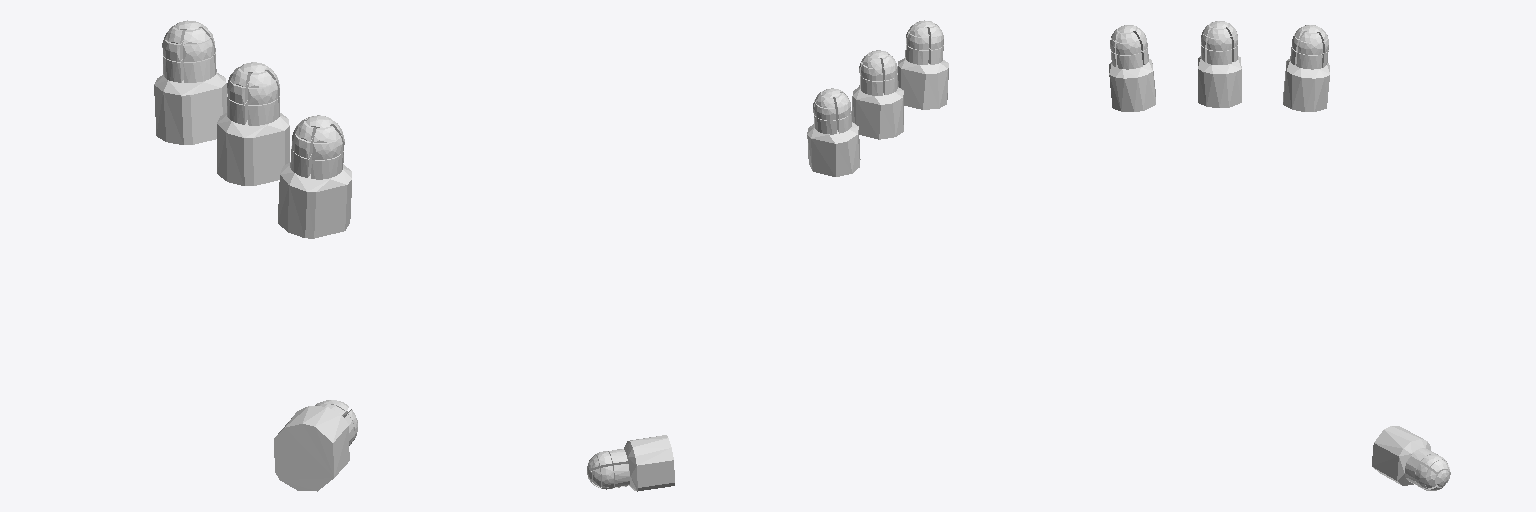
--- Facts derived from the render (not from the file) ---
The picture shows the robot from 3 angles, left to right: view 1: azimuth 30°, elevation 25°; view 2: azimuth 150°, elevation 25°; view 3: azimuth 270°, elevation 25°; orthographic projection.
Model meta_allegro with 79 links and 78 joints (19 revolute, 3 prismatic, 56 fixed), rooted at allegro_root0, posed joints at zero except 1 at the middle of their limits (joint_12.0 = 0.8295).
Visible links, largest first — view 1: link_15.0_digit2_sensor_base, link_11.0_digit2_sensor_base, link_7.0_digit2_sensor_base, link_3.0_digit2_sensor_base, link_3.0_digit2_sec4_sensor_1l2, link_7.0_digit2_sec4_sensor_1l2, link_11.0_digit2_sec4_sensor_1l2, link_3.0_digit2_sec4_sensor_2l2; view 2: link_15.0_digit2_sensor_base, link_3.0_digit2_sensor_base, link_7.0_digit2_sensor_base, link_11.0_digit2_sensor_base; view 3: link_15.0_digit2_sensor_base, link_3.0_digit2_sensor_base, link_11.0_digit2_sensor_base, link_7.0_digit2_sensor_base.
Boxes of the visible links, x1,y1,x2,y2 form: link_15.0_digit2_sensor_base: (274, 406, 349, 491); link_11.0_digit2_sensor_base: (278, 162, 351, 238); link_7.0_digit2_sensor_base: (217, 113, 289, 185); link_3.0_digit2_sensor_base: (154, 72, 226, 144); link_3.0_digit2_sec4_sensor_1l2: (183, 56, 214, 82); link_7.0_digit2_sec4_sensor_1l2: (248, 99, 278, 125); link_11.0_digit2_sec4_sensor_1l2: (311, 153, 342, 179); link_3.0_digit2_sec4_sensor_2l2: (183, 39, 213, 61); link_15.0_digit2_sensor_base: (624, 435, 674, 491); link_3.0_digit2_sensor_base: (807, 122, 860, 176); link_7.0_digit2_sensor_base: (852, 87, 903, 139); link_11.0_digit2_sensor_base: (898, 58, 948, 109); link_15.0_digit2_sensor_base: (1372, 426, 1430, 485); link_3.0_digit2_sensor_base: (1283, 59, 1329, 111); link_11.0_digit2_sensor_base: (1109, 59, 1155, 111); link_7.0_digit2_sensor_base: (1198, 56, 1241, 107).
Bounding box of the posed robot: 0.1465 × 0.2176 × 0.2763 m (x, y, z).
Meshes: 23 distinct files referenced, 56 mesh visuals loaded (14 binary STL); not drawn: 17 (reference not matched to a file when rendering).

robot.urdf — meta_allegro:
<?xml version="1.0" encoding="utf-8"?>
<robot name="meta_allegro" xmlns:xacro="http://ros.org/wiki/xacro">
  <!-- ============================================================================= -->
  <!-- FINGERS -->
  <!-- RIGHT HAND due to which finger is number 0 -->
  <!-- for LEFT HAND switch the sign of the **offset_origin_y** and **finger_angle_r** parameters-->
    <link name="allegro_root0">
      <inertial>
        <origin rpy="0 0 0" xyz="0 0 0"/>
        <mass value="4.00000"/>
        <inertia ixx="1e-4" ixy="0" ixz="0" iyy="1e-4" iyz="0" izz="1e-4"/>
      </inertial>
    </link>
    <link name="allegro_root1">
      <inertial>
        <mass value="1.05"/>
        <inertia ixx="1e-4" ixy="0.0" ixz="0.0" iyy="1e-4" iyz="0.0" izz="1e-4"/>
      </inertial>
    </link>
    <link name="allegro_root2">
      <inertial>
        <mass value="1.05"/>
        <inertia ixx="1e-4" ixy="0.0" ixz="0.0" iyy="1e-4" iyz="0.0" izz="1e-4"/>
      </inertial>
    </link>
    <link name="allegro_root3">
      <inertial>
        <mass value="1.05"/>
        <inertia ixx="1e-4" ixy="0.0" ixz="0.0" iyy="1e-4" iyz="0.0" izz="1e-4"/>
      </inertial>
    </link>
    <link name="allegro_root4">
      <inertial>
        <mass value="1.05"/>
        <inertia ixx="1e-4" ixy="0.0" ixz="0.0" iyy="1e-4" iyz="0.0" izz="1e-4"/>
      </inertial>
    </link>
    <link name="allegro_root5">
      <inertial>
        <mass value="1.05"/>
        <inertia ixx="1e-4" ixy="0.0" ixz="0.0" iyy="1e-4" iyz="0.0" izz="1e-4"/>
      </inertial>
    </link>

    <joint name="x_joint" type="prismatic">
      <parent link="allegro_root0"/>
      <child link="allegro_root1"/>
      <axis xyz="1 0 0"/>
      <limit lower="-0.2" upper="0.2"/>
    </joint>
    <joint name="y_joint" type="prismatic">
      <parent link="allegro_root1"/>
      <child link="allegro_root2"/>
      <axis xyz="0 1 0"/>
      <limit lower="-0.2" upper="0.2"/>
    </joint>
    <joint name="z_joint" type="prismatic">
      <parent link="allegro_root2"/>
      <child link="allegro_root3"/>
      <axis xyz="0 0 1"/>
      <limit lower="-0.2" upper="0.2"/>
    </joint>
    <joint name="x_rotation_joint" type="revolute">
      <parent link="allegro_root3"/>
      <child link="allegro_root4"/>
      <axis xyz="1 0 0"/>
        <origin rpy="-0.00000 -0.00000 0" xyz="0 0 0.03"/>
      <limit lower="-3.14" upper="3.14"/>
    </joint>
    <joint name="y_rotation_joint" type="revolute">
      <parent link="allegro_root4"/>
      <child link="allegro_root5"/>
      <axis xyz="0 1 0"/>
      <origin rpy="-0.00000 -0.00000 0" xyz="0 0 0.03"/>
      <limit lower="-3.14" upper="3.14"/>
    </joint>
    <joint name="z_rotation_joint" type="revolute">
      <parent link="allegro_root5"/>
      <child link="base_link"/>
      <axis xyz="0 0 1"/>
      <origin rpy="-0.00000 -0.00000 0" xyz="0 0 0.03"/>
      <limit lower="-3.14" upper="3.14"/>
    </joint>

    <link name="base_link">
    <inertial>
      <mass value="0.4154"/>
      <origin rpy="0 0 0" xyz="0 0 0"/>
      <inertia ixx="1e-4" ixy="0" ixz="0" iyy="1e-4" iyz="0" izz="1e-4"/>
    </inertial>
    <visual>
      <geometry>
        <mesh filename="meshes/base_link.STL"/>
      </geometry>
      <material name="Grey">
        <color rgba="0.2 0.2 0.2 1"/>
      </material>
      <origin rpy="0 0 0" xyz="0 0 0 "/>
    </visual>
    <!-- <collision>
      <origin rpy="0 0 0" xyz="-0.009300 0 -0.0475"/>
      <geometry>
        <box size="0.0408 0.1130 0.095"/>
      </geometry>
    </collision> -->
     <collision>
      <origin rpy="0 0 0" xyz="-0.009 0.0 -0.023"/>
      <geometry>
        <box size="0.0414 0.112 0.0448"/>
      </geometry>
    </collision>
    <collision>
      <origin rpy="0 0 0" xyz="-0.009 -0.0253 -0.0667"/>
      <geometry>
        <box size="0.0414 0.0538 0.0428"/>
      </geometry>
    </collision>
    <collision>
      <origin rpy="0 0 0" xyz="-0.009300 -0.00557 -0.08874"/>
      <geometry>
        <box size="0.0414 0.0720 0.013"/>
      </geometry>
    </collision>
    
  </link>


  <link name="link_0.0">
    <!-- <inertial>
      <mass value="0.005"/>
      <origin xyz="0 0 0"/>
      <inertia ixx="5.1458e-05" iyy="5.1458e-05" izz="6.125e-05" ixy="0" ixz="0" iyz="0"/>
    </inertial> -->
    <inertial>
      <mass value="0.0119"/>
      <origin rpy="0 0 0" xyz="0 0 0"/>
      <inertia ixx="1.01666658333e-06" ixy="0.0" ixz="0.0" iyy="6.47677333333e-07" iyz="0.0" izz="1.01666658333e-06"/>
    </inertial>

    <visual>
      <geometry>
        <mesh filename="meshes/link_0.0.STL"/>
      </geometry>
      <material name="black"/>
    </visual>
    <collision>
      <geometry>
        <box size="0.0196 0.0275 0.0164"/>
      </geometry>
      <origin rpy="0 0 0" xyz="0 0 0.0082"/>
    </collision>
  </link>
  <joint name="joint_0.0" type="revolute">
    <axis xyz="0 0 1"/>
    <limit effort="0" lower="-0.47" upper="0.47" velocity="10"/>
    <parent link="base_link"/>
    <child link="link_0.0"/>
    <origin rpy="-0.08726646255 0 0" xyz="0 0.0435 -0.001542"/>
  </joint>
  <link name="link_1.0">
    <!-- <inertial>
      <mass value="0.125164"/>
      <origin xyz="0.027 0 0"/>
      <inertia ixx="6.39979e-06" iyy="8.88687e-05" izz="9.13751e-05" ixy="-3.26531e-06" ixz="1.23963e-05"
               iyz="2.07384e-05"/>
    </inertial> -->
     <inertial>
      <mass value="0.065"/>
      <origin rpy="0 0 0" xyz="0 0 0"/>
      <inertia ixx="7.95654166667e-05" ixy="1.7199e-05" ixz="8.75875e-06" iyy="2.47088833333e-05" iyz="2.413125e-05" izz="7.95654166667e-05"/>
    </inertial>
    
    <visual>
      <geometry>
        <mesh filename="meshes/link_1.0.STL"/>
      </geometry>
      <material name="black"/>
    </visual>
    <collision>
      <geometry>
        <box size="0.0196 0.0275 0.054"/>
      </geometry>
      <origin rpy="0 0 0" xyz="0 0 0.027"/>
    </collision>
  </link>
  <joint name="joint_1.0" type="revolute">
    <limit effort="0" lower="-0.196" upper="1.61" velocity="10"/>
    <axis xyz="0 1 0"/>
    <parent link="link_0.0"/>
    <child link="link_1.0"/>
    <origin xyz="0 0 0.0164"/>
  </joint>
  <link name="link_2.0">
    <!-- <inertial>
      <mass value="0.131691"/>
      <origin xyz="0.039 0 0"/>
      <inertia ixx="7.04217e-05" iyy="3.95744e-05" izz="6.61125e-05" ixy="-9.64342e-05" ixz="5.8796e-05"
               iyz="-3.62996e-05"/>
    </inertial> -->
    <inertial>
      <mass value="0.0355"/>
      <origin rpy="0 0 0" xyz="0 0 0"/>
      <inertia ixx="2.63979183333e-05" ixy="6.67968e-06" ixz="4.783625e-06" iyy="1.34948516667e-05" iyz="9.372e-06" izz="2.63979183333e-05"/>
    </inertial>

    <visual>
      <geometry>
        <mesh filename="meshes/link_2.0.STL"/>
      </geometry>
         <material name="Grey">
        <color rgba="0.2 0.2 0.2 1"/>
      </material>
    </visual>
    <collision>
      <geometry>
        <box size="0.0196 0.0275 0.0384"/>
      </geometry>
      <origin rpy="0 0 0" xyz="0 0 0.0192"/>
    </collision>
  </link>
  <joint name="joint_2.0" type="revolute">
    <axis xyz="0 1 0"/>
    <limit effort="0" lower="-0.174" upper="1.709" velocity="10"/>
    <parent link="link_1.0"/>
    <child link="link_2.0"/>
    <origin xyz="0 0 0.054"/>
  </joint>
  <link name="link_3.0">
    <!-- <inertial>
      <mass value="0.131691"/>
      <origin xyz="0.039 0 0"/>
      <inertia ixx="7.04217e-05" iyy="3.95744e-05" izz="6.61125e-05" ixy="-9.64342e-05" ixz="5.8796e-05"
               iyz="-3.62996e-05"/>
    </inertial> -->
     <inertial>
      <mass value="0.0096"/>
      <origin rpy="0 0 0" xyz="0 0 0"/>
      <inertia ixx="4.701248e-06" ixy="1.255968e-06" ixz="1.2936e-06" iyy="3.649312e-06" iyz="1.7622e-06" izz="4.701248e-06"/>
    </inertial>

    <visual>
      <geometry>
        <mesh filename="meshes/link_3.0.STL"/>
      </geometry>
         <material name="Grey">
        <color rgba="0.2 0.2 0.2 1"/>
      </material>
    </visual>
    <collision>
      <geometry>
        <box size="0.0196 0.0235 0.014"/>
      </geometry>
      <origin rpy="0 0 0" xyz="0 0 0.008"/>
    </collision>
  </link>
  <joint name="joint_3.0" type="revolute">
    <axis xyz="0 1 0"/>
    <limit effort="0" lower="-0.227" upper="1.618" velocity="10"/>
    <parent link="link_2.0"/>
    <child link="link_3.0"/>
    <origin xyz="0 0 0.0384"/>
  </joint>

  <link name="link_4.0">
    <!-- <inertial>
      <mass value="0.005"/>
      <origin xyz="0 0 0"/>
      <inertia ixx="5.1458e-05" iyy="5.1458e-05" izz="6.125e-05" ixy="0" ixz="0" iyz="0"/>
    </inertial> -->

    <inertial>
      <mass value="0.0119"/>
      <origin rpy="0 0 0" xyz="0 0 0"/>
      <inertia ixx="1.01666658333e-06" ixy="0.0" ixz="0.0" iyy="6.47677333333e-07" iyz="0.0" izz="1.01666658333e-06"/>
    </inertial>

    <visual>
      <geometry>
        <mesh filename="meshes/link_0.0.STL"/>
      </geometry>
      <material name="black"/>
    </visual>
    <collision>
      <geometry>
        <box size="0.0196 0.0275 0.0164"/>
      </geometry>
      <origin rpy="0 0 0" xyz="0 0 0.0082"/>
    </collision>
  </link>
  <joint name="joint_4.0" type="revolute">
    <axis xyz="0 0 1"/>
    <limit effort="0" lower="-0.47" upper="0.47" velocity="10"/>
    <parent link="base_link"/>
    <child link="link_4.0"/>
    <origin rpy="0.0 0 0" xyz="0 0 0.0007"/>
  </joint>
  <link name="link_5.0">
    <!-- <inertial>
      <mass value="0.125164"/>
      <origin xyz="0.027 0 0"/>
      <inertia ixx="6.39979e-06" iyy="8.88687e-05" izz="9.13751e-05" ixy="-3.26531e-06" ixz="1.23963e-05"
               iyz="2.07384e-05"/>
    </inertial> -->
    
    <inertial>
      <mass value="0.065"/>
      <origin rpy="0 0 0" xyz="0 0 0"/>
      <inertia ixx="7.95654166667e-05" ixy="1.7199e-05" ixz="8.75875e-06" iyy="2.47088833333e-05" iyz="2.413125e-05" izz="7.95654166667e-05"/>
    </inertial>

    <visual>
      <geometry>
        <mesh filename="meshes/link_1.0.STL"/>
      </geometry>
      <material name="black"/>
    </visual>
    <collision>
      <geometry>
        <box size="0.0196 0.0275 0.054"/>
      </geometry>
      <origin rpy="0 0 0" xyz="0 0 0.027"/>
    </collision>
  </link>
  <joint name="joint_5.0" type="revolute">
    <limit effort="0" lower="-0.196" upper="1.61" velocity="10"/>
    <axis xyz="0 1 0"/>
    <parent link="link_4.0"/>
    <child link="link_5.0"/>
    <origin xyz="0 0 0.0164"/>
  </joint>
  <link name="link_6.0">
    <!-- <inertial>
      <mass value="0.131691"/>
      <origin xyz="0.039 0 0"/>
      <inertia ixx="7.04217e-05" iyy="3.95744e-05" izz="6.61125e-05" ixy="-9.64342e-05" ixz="5.8796e-05"
               iyz="-3.62996e-05"/>
    </inertial> -->
    <inertial>
      <mass value="0.0355"/>
      <origin rpy="0 0 0" xyz="0 0 0"/>
      <inertia ixx="2.63979183333e-05" ixy="6.67968e-06" ixz="4.783625e-06" iyy="1.34948516667e-05" iyz="9.372e-06" izz="2.63979183333e-05"/>
    </inertial>

    <visual>
      <geometry>
        <mesh filename="meshes/link_2.0.STL"/>
      </geometry>
      <material name="black"/>
    </visual>
    <collision>
      <geometry>
        <box size="0.0196 0.0275 0.0384"/>
      </geometry>
      <origin rpy="0 0 0" xyz="0 0 0.0192"/>
    </collision>
  </link>
  <joint name="joint_6.0" type="revolute">
    <axis xyz="0 1 0"/>
    <limit effort="0" lower="-0.174" upper="1.709" velocity="10"/>
    <parent link="link_5.0"/>
    <child link="link_6.0"/>
    <origin xyz="0 0 0.054"/>
  </joint>
  <link name="link_7.0">
    <!-- <inertial>
      <mass value="0.131691"/>
      <origin xyz="0.039 0 0"/>
      <inertia ixx="7.04217e-05" iyy="3.95744e-05" izz="6.61125e-05" ixy="-9.64342e-05" ixz="5.8796e-05"
               iyz="-3.62996e-05"/>
    </inertial> -->
    <inertial>
      <mass value="0.0096"/>
      <origin rpy="0 0 0" xyz="0 0 0"/>
      <inertia ixx="4.701248e-06" ixy="1.255968e-06" ixz="1.2936e-06" iyy="3.649312e-06" iyz="1.7622e-06" izz="4.701248e-06"/>
    </inertial>

    <visual>
      <geometry>
        <mesh filename="meshes/link_3.0.STL"/>
      </geometry>
      <material name="black"/>
    </visual>
     <collision>
      <geometry>
        <box size="0.0196 0.0235 0.014"/>
      </geometry>
      <origin rpy="0 0 0" xyz="0 0 0.008"/>
    </collision>

    <!-- <collision>
      <geometry>
        <box size="0.0196 0.0275 0.0267"/>
      </geometry>
      <origin rpy="0 0 0" xyz="0 0 0.01335"/>
    </collision> -->
  </link>
  <joint name="joint_7.0" type="revolute">
    <axis xyz="0 1 0"/>
    <limit effort="0" lower="-0.227" upper="1.618" velocity="10"/>
    <parent link="link_6.0"/>
    <child link="link_7.0"/>
    <origin xyz="0 0 0.0384"/>
  </joint>
 
  <link name="link_8.0">
    <!-- <inertial>
      <mass value="0.005"/>
      <origin xyz="0 0 0"/>
      <inertia ixx="5.1458e-05" iyy="5.1458e-05" izz="6.125e-05" ixy="0" ixz="0" iyz="0"/>
    </inertial> -->

    <inertial>
      <mass value="0.0119"/>
      <origin rpy="0 0 0" xyz="0 0 0"/>
      <inertia ixx="1.01666658333e-06" ixy="0.0" ixz="0.0" iyy="6.47677333333e-07" iyz="0.0" izz="1.01666658333e-06"/>
    </inertial>

    <visual>
      <geometry>
        <mesh filename="meshes/link_0.0.STL"/>
      </geometry>
      <material name="black"/>
    </visual>
    <collision>
      <geometry>
        <box size="0.0196 0.0275 0.0164"/>
      </geometry>
      <origin rpy="0 0 0" xyz="0 0 0.0082"/>
    </collision>

  </link>
  <joint name="joint_8.0" type="revolute">
    <axis xyz="0 0 1"/>
    <limit effort="0" lower="-0.47" upper="0.47" velocity="10"/>
    <parent link="base_link"/>
    <child link="link_8.0"/>
    <origin rpy="0.08726646255 0 0" xyz="0 -0.0435 -0.001542"/>
  </joint>
  <link name="link_9.0">
    <!-- <inertial>
      <mass value="0.125164"/>
      <origin xyz="0.027 0 0"/>
      <inertia ixx="6.39979e-06" iyy="8.88687e-05" izz="9.13751e-05" ixy="-3.26531e-06" ixz="1.23963e-05"
               iyz="2.07384e-05"/>
    </inertial> -->
    <inertial>
      <mass value="0.065"/>
      <origin rpy="0 0 0" xyz="0 0 0"/>
      <inertia ixx="7.95654166667e-05" ixy="1.7199e-05" ixz="8.75875e-06" iyy="2.47088833333e-05" iyz="2.413125e-05" izz="7.95654166667e-05"/>
    </inertial>

    <visual>
      <geometry>
        <mesh filename="meshes/link_1.0.STL"/>
      </geometry>
      <material name="black"/>
    </visual>
    <collision>
      <geometry>
        <box size="0.0196 0.0275 0.054"/>
      </geometry>
      <origin rpy="0 0 0" xyz="0 0 0.027"/>
    </collision>
  </link>
  <joint name="joint_9.0" type="revolute">
    <limit effort="0" lower="-0.196" upper="1.61" velocity="10"/>
    <axis xyz="0 1 0"/>
    <parent link="link_8.0"/>
    <child link="link_9.0"/>
    <origin xyz="0 0 0.0164"/>
  </joint>
  <link name="link_10.0">
    <!-- <inertial>
      <mass value="0.131691"/>
      <origin xyz="0.039 0 0"/>
      <inertia ixx="7.04217e-05" iyy="3.95744e-05" izz="6.61125e-05" ixy="-9.64342e-05" ixz="5.8796e-05"
               iyz="-3.62996e-05"/>
    </inertial> -->
    <inertial>
      <mass value="0.0355"/>
      <origin rpy="0 0 0" xyz="0 0 0"/>
      <inertia ixx="2.63979183333e-05" ixy="6.67968e-06" ixz="4.783625e-06" iyy="1.34948516667e-05" iyz="9.372e-06" izz="2.63979183333e-05"/>
    </inertial>

    <visual>
      <geometry>
        <mesh filename="meshes/link_2.0.STL"/>
      </geometry>
      <material name="black"/>
    </visual>
    <collision>
      <geometry>
        <box size="0.0196 0.0275 0.0384"/>
      </geometry>
      <origin rpy="0 0 0" xyz="0 0 0.0192"/>
    </collision>
  </link>
  <joint name="joint_10.0" type="revolute">
    <axis xyz="0 1 0"/>
    <limit effort="0" lower="-0.174" upper="1.709" velocity="10"/>
    <parent link="link_9.0"/>
    <child link="link_10.0"/>
    <origin xyz="0 0 0.054"/>
  </joint>
  <link name="link_11.0">
    <!-- <inertial>
      <mass value="0.131691"/>
      <origin xyz="0.039 0 0"/>
      <inertia ixx="7.04217e-05" iyy="3.95744e-05" izz="6.61125e-05" ixy="-9.64342e-05" ixz="5.8796e-05"
               iyz="-3.62996e-05"/>
    </inertial> -->
     <inertial>
      <mass value="0.0096"/>
      <origin rpy="0 0 0" xyz="0 0 0"/>
      <inertia ixx="4.701248e-06" ixy="1.255968e-06" ixz="1.2936e-06" iyy="3.649312e-06" iyz="1.7622e-06" izz="4.701248e-06"/>
    </inertial>

    <visual>
      <geometry>
        <mesh filename="meshes/link_3.0.STL"/>
      </geometry>
      <material name="black"/>
    </visual>
     <collision>
      <geometry>
        <box size="0.0196 0.0235 0.014"/>
      </geometry>
      <origin rpy="0 0 0" xyz="0 0 0.008"/>
    </collision>

    <!-- <collision>
      <geometry>
        <box size="0.0196 0.0275 0.0267"/>
      </geometry>
      <origin rpy="0 0 0" xyz="0 0 0.01335"/>
    </collision> -->
  </link>
  <joint name="joint_11.0" type="revolute">
    <axis xyz="0 1 0"/>
    <limit effort="0" lower="-0.227" upper="1.618" velocity="10"/>
    <parent link="link_10.0"/>
    <child link="link_11.0"/>
    <origin xyz="0 0 0.0384"/>
  </joint>

  <!-- THUMB -->
  <link name="link_12.0">
    <!-- <inertial>
      <mass value="0.005"/>
      <origin xyz="0 0 0"/>
      <inertia ixx="5.1458e-05" iyy="5.1458e-05" izz="6.125e-05" ixy="0" ixz="0" iyz="0"/>
    </inertial> -->
    <inertial>
      <mass value="0.0176"/>
      <origin rpy="0 0 0" xyz="0 0 0"/>
      <inertia ixx="1.89273333333e-5" ixy="7.16716e-06" ixz="5.35568e-06" iyy="1.43008213333e-05" iyz="6.8068e-06" izz="1.89273333333e-05"/>
    </inertial>

    <visual>
      <geometry>
        <!-- RIGHT -->
        <mesh filename="meshes/link_12.0_right.STL"/>
        <!-- LEFT -->
        <!-- <mesh filename="meshes/link_12.0_left.STL" /> -->
      </geometry>
      <material name="black">
        <color rgba=".2 .2 .2 1"/>
      </material>
    </visual>
    <collision>
      <geometry>
        <box size="0.0358 0.034 0.0455"/>
      </geometry>
      <!-- RIGHT -->
      <origin rpy="0 0 0" xyz="-0.0179 0.009 0.0145"/>
      <!-- LEFT -->
    </collision>
  </link>
  <joint name="joint_12.0" type="revolute">
    <axis xyz="-1 0 0"/>
    <limit effort="0" lower="0.263" upper="1.396" velocity="10"/>
    <parent link="base_link"/>
    <child link="link_12.0"/>
    <origin rpy="0 -1.65806278845 -1.5707963259" xyz="-0.0182 0.019333 -0.045987"/>
  </joint>
  <link name="link_13.0">
    <!-- <inertial>
      <mass value="0.125164"/>
      <origin xyz="0.027 0 0"/>
      <inertia ixx="6.39979e-06" iyy="8.88687e-05" izz="9.13751e-05" ixy="-3.26531e-06" ixz="1.23963e-05"
               iyz="2.07384e-05"/>
    </inertial> -->
    <inertial>
      <mass value="0.0119"/>
      <origin rpy="0 0 0" xyz="0 0 0"/>
      <inertia ixx="4.24250866667e-06" ixy="1.032087e-06" ixz="1.603525e-06" iyy="4.52362633333e-06" iyz="1.44808125e-06" izz="4.24250866667e-06"/>
    </inertial>

    <visual>
      <geometry>
        <mesh filename="meshes/link_13.0.STL"/>
      </geometry>
      <material name="black">
        <color rgba=".2 .2 .2 1"/>
      </material>
    </visual>
    <collision>
      <geometry>
        <box size="0.0196 0.0275 0.0177"/>
      </geometry>
      <origin rpy="0 0 0" xyz="0 0 0.00885"/>
    </collision>
  </link>
  <joint name="joint_13.0" type="revolute">
    <axis xyz="0 0 1"/>
    <limit effort="0" lower="-0.105" upper="1.163" velocity="10"/>
    <parent link="link_12.0"/>
    <child link="link_13.0"/>
    <!-- RIGHT -->
    <origin xyz="-0.027 0.005 0.0399"/>
    <!-- LEFT -->
    <!-- <origin xyz="-0.027 -0.005 0.0399"/> -->
  </joint>
  <link name="link_14.0">
    <!-- <inertial>
      <mass value="0.131691"/>
      <origin xyz="0.039 0 0"/>
      <inertia ixx="7.04217e-05" iyy="3.95744e-05" izz="6.61125e-05" ixy="-9.64342e-05" ixz="5.8796e-05"
               iyz="-3.62996e-05"/>
    </inertial> -->
    <inertial>
      <mass value="0.038"/>
      <origin rpy="0 0 0" xyz="0 0 0"/>
      <inertia ixx="4.30439933333e-05" ixy="9.57068e-06" ixz="5.1205e-06" iyy="1.44451933333e-05" iyz="1.342825e-05" izz="4.30439933333e-05"/>
    </inertial>

    <visual>
      <geometry>
        <mesh filename="meshes/link_14.0.STL"/>
      </geometry>
      <material name="black">
      </material>
    </visual>
    <collision>
      <geometry>
        <box size="0.0196 0.0275 0.0514"/>
      </geometry>
      <origin rpy="0 0 0" xyz="0 0 0.0257"/>
    </collision>
  </link>
  <joint name="joint_14.0" type="revolute">
    <axis xyz="0 1 0"/>
    <limit effort="0" lower="-0.189" upper="1.644" velocity="10"/>
    <parent link="link_13.0"/>
    <child link="link_14.0"/>
    <origin xyz="0 0 0.0177"/>
  </joint>
  <link name="link_15.0">
    <!-- <inertial>
      <mass value="0.131691"/>
      <origin xyz="0.039 0 0"/>
      <inertia ixx="7.04217e-05" iyy="3.95744e-05" izz="6.61125e-05" ixy="-9.64342e-05" ixz="5.8796e-05"
               iyz="-3.62996e-05"/>
    </inertial> -->
    <inertial>
      <mass value="0.0388"/>
      <origin rpy="0 0 0" xyz="0 0 0"/>
      <inertia ixx="3.29223173333e-05" ixy="8.042076e-06" ixz="5.2283e-06" iyy="1.47493026667e-5" iyz="1.1283525e-5" izz="3.29223173333e-05"/>
    </inertial>

    <visual>
      <geometry>
        <mesh filename="meshes/link_15.0.STL"/>
      </geometry>
      <material name="black">
      </material>
    </visual>
    <collision>
      <geometry>
        <box size="0.0186 0.0275 0.0323"/>
      </geometry>
      <origin rpy="0 0 0" xyz="0 0 0.01615"/>
    </collision>
  </link>
  <joint name="joint_15.0" type="revolute">
    <axis xyz="0 1 0"/>
    <limit effort="0" lower="-0.162" upper="1.719" velocity="10"/>
    <parent link="link_14.0"/>
    <child link="link_15.0"/>
    <origin xyz="0 0 0.0514"/>
  </joint>

  
  <link name="link_3.0_digit2_sensor_base">
    <visual>
      <geometry>
        <mesh filename="meshes/digit2_sensor_base.stl"/>
      </geometry>
      <material name="white">
        <color rgba=".9 .9 .9 1"/>
      </material>
    </visual>
     <collision>
      <geometry>
       <mesh filename="meshes/digit2_sensor_base.stl"/>
      </geometry>
      <origin rpy="0 0 0" xyz="0 0 0"/>
    </collision>
  </link>
  <joint name="joint_3.0_digit2_sensor_base" type="fixed">
    <parent link="link_3.0"/>
    <child link="link_3.0_digit2_sensor_base"/>
    <origin rpy="0 0 0" xyz="0 0 0.02"/>
  </joint>

  <inertial>
      <mass value="0.008"/>
      <origin rpy="0 0 0" xyz="0 0 0"/>
      <inertia ixx="9.68e-07" ixy="0" ixz="0" iyy="9.68e-07" iyz="0" izz="9.68e-07"/>
  </inertial>


  <link name="link_3.0_digit2_sec4_sensor_1l0">
    <visual>
      <geometry>
        <mesh filename="meshes/digit2_sec4_sensor_1l0.stl"/>
      </geometry>
      <material name="white">
        <color rgba=".9 .9 .9 1"/>
      </material>
    </visual>
     <collision>
      <geometry>
       <mesh filename="meshes/digit2_sec4_sensor_1l0.stl"/>
      </geometry>
      <origin rpy="0 0 0" xyz="0 0 0"/>
    </collision>
  </link>
  <joint name="joint_3.0_digit2_sec4_sensor_1l0" type="fixed">
    <parent link="link_3.0"/>
    <child link="link_3.0_digit2_sec4_sensor_1l0"/>
    <origin rpy="0 0 0" xyz="0 0 0.02"/>
  </joint>

  <inertial>
      <mass value="0.0014"/>
      <origin rpy="0 0 0" xyz="0 0 0"/>
      <inertia ixx="9.68e-07" ixy="0" ixz="0" iyy="9.68e-07" iyz="0" izz="9.68e-07"/>
  </inertial>


  <link name="link_3.0_digit2_sec4_sensor_1l1">
    <visual>
      <geometry>
        <mesh filename="meshes/digit2_sec4_sensor_1l1.stl"/>
      </geometry>
      <material name="white">
        <color rgba=".9 .9 .9 1"/>
      </material>
    </visual>
     <collision>
      <geometry>
       <mesh filename="meshes/digit2_sec4_sensor_1l1.stl"/>
      </geometry>
      <origin rpy="0 0 0" xyz="0 0 0"/>
    </collision>
  </link>
  <joint name="joint_3.0_digit2_sec4_sensor_1l1" type="fixed">
    <parent link="link_3.0"/>
    <child link="link_3.0_digit2_sec4_sensor_1l1"/>
    <origin rpy="0 0 0" xyz="0 0 0.02"/>
  </joint>

  <inertial>
      <mass value="0.0014"/>
      <origin rpy="0 0 0" xyz="0 0 0"/>
      <inertia ixx="9.68e-07" ixy="0" ixz="0" iyy="9.68e-07" iyz="0" izz="9.68e-07"/>
  </inertial>


  <link name="link_3.0_digit2_sec4_sensor_1l2">
    <visual>
      <geometry>
        <mesh filename="meshes/digit2_sec4_sensor_1l2.stl"/>
      </geometry>
      <material name="white">
        <color rgba=".9 .9 .9 1"/>
      </material>
    </visual>
     <collision>
      <geometry>
       <mesh filename="meshes/digit2_sec4_sensor_1l2.stl"/>
      </geometry>
      <origin rpy="0 0 0" xyz="0 0 0"/>
    </collision>
  </link>
  <joint name="joint_3.0_digit2_sec4_sensor_1l2" type="fixed">
    <parent link="link_3.0"/>
    <child link="link_3.0_digit2_sec4_sensor_1l2"/>
    <origin rpy="0 0 0" xyz="0 0 0.02"/>
  </joint>

  <inertial>
      <mass value="0.0014"/>
      <origin rpy="0 0 0" xyz="0 0 0"/>
      <inertia ixx="9.68e-07" ixy="0" ixz="0" iyy="9.68e-07" iyz="0" izz="9.68e-07"/>
  </inertial>


  <link name="link_3.0_digit2_sec4_sensor_1l3">
    <visual>
      <geometry>
        <mesh filename="meshes/digit2_sec4_sensor_1l3.stl"/>
      </geometry>
      <material name="white">
        <color rgba=".9 .9 .9 1"/>
      </material>
    </visual>
     <collision>
      <geometry>
       <mesh filename="meshes/digit2_sec4_sensor_1l3.stl"/>
      </geometry>
      <origin rpy="0 0 0" xyz="0 0 0"/>
    </collision>
  </link>
  <joint name="joint_3.0_digit2_sec4_sensor_1l3" type="fixed">
    <parent link="link_3.0"/>
    <child link="link_3.0_digit2_sec4_sensor_1l3"/>
    <origin rpy="0 0 0" xyz="0 0 0.02"/>
  </joint>

  <inertial>
      <mass value="0.0014"/>
      <origin rpy="0 0 0" xyz="0 0 0"/>
      <inertia ixx="9.68e-07" ixy="0" ixz="0" iyy="9.68e-07" iyz="0" izz="9.68e-07"/>
  </inertial>


  <link name="link_3.0_digit2_sec4_sensor_2l0">
    <visual>
      <geometry>
        <mesh filename="meshes/digit2_sec4_sensor_2l0.stl"/>
      </geometry>
      <material name="white">
        <color rgba=".9 .9 .9 1"/>
      </material>
    </visual>
     <collision>
      <geometry>
       <mesh filename="meshes/digit2_sec4_sensor_2l0.stl"/>
      </geometry>
      <origin rpy="0 0 0" xyz="0 0 0"/>
    </collision>
  </link>
  <joint name="joint_3.0_digit2_sec4_sensor_2l0" type="fixed">
    <parent link="link_3.0"/>
    <child link="link_3.0_digit2_sec4_sensor_2l0"/>
    <origin rpy="0 0 0" xyz="0 0 0.02"/>
  </joint>

  <inertial>
      <mass value="0.0014"/>
      <origin rpy="0 0 0" xyz="0 0 0"/>
      <inertia ixx="9.68e-07" ixy="0" ixz="0" iyy="9.68e-07" iyz="0" izz="9.68e-07"/>
  </inertial>


  <link name="link_3.0_digit2_sec4_sensor_2l1">
    <visual>
      <geometry>
        <mesh filename="meshes/digit2_sec4_sensor_2l1.stl"/>
      </geometry>
      <material name="white">
        <color rgba=".9 .9 .9 1"/>
      </material>
    </visual>
     <collision>
      <geometry>
       <mesh filename="meshes/digit2_sec4_sensor_2l1.stl"/>
      </geometry>
      <origin rpy="0 0 0" xyz="0 0 0"/>
    </collision>
  </link>
  <joint name="joint_3.0_digit2_sec4_sensor_2l1" type="fixed">
    <parent link="link_3.0"/>
    <child link="link_3.0_digit2_sec4_sensor_2l1"/>
    <origin rpy="0 0 0" xyz="0 0 0.02"/>
  </joint>

  <inertial>
      <mass value="0.0014"/>
      <origin rpy="0 0 0" xyz="0 0 0"/>
      <inertia ixx="9.68e-07" ixy="0" ixz="0" iyy="9.68e-07" iyz="0" izz="9.68e-07"/>
  </inertial>


  <link name="link_3.0_digit2_sec4_sensor_2l2">
    <visual>
      <geometry>
        <mesh filename="meshes/digit2_sec4_sensor_2l2.stl"/>
      </geometry>
      <material name="white">
        <color rgba=".9 .9 .9 1"/>
      </material>
    </visual>
     <collision>
      <geometry>
       <mesh filename="meshes/digit2_sec4_sensor_2l2.stl"/>
      </geometry>
      <origin rpy="0 0 0" xyz="0 0 0"/>
    </collision>
  </link>
  <joint name="joint_3.0_digit2_sec4_sensor_2l2" type="fixed">
    <parent link="link_3.0"/>
    <child link="link_3.0_digit2_sec4_sensor_2l2"/>
    <origin rpy="0 0 0" xyz="0 0 0.02"/>
  </joint>

  <inertial>
      <mass value="0.0014"/>
      <origin rpy="0 0 0" xyz="0 0 0"/>
      <inertia ixx="9.68e-07" ixy="0" ixz="0" iyy="9.68e-07" iyz="0" izz="9.68e-07"/>
  </inertial>


  <link name="link_3.0_digit2_sec4_sensor_2l3">
    <visual>
      <geometry>
        <mesh filename="meshes/digit2_sec4_sensor_2l3.stl"/>
      </geometry>
      <material name="white">
        <color rgba=".9 .9 .9 1"/>
      </material>
    </visual>
     <collision>
      <geometry>
       <mesh filename="meshes/digit2_sec4_sensor_2l3.stl"/>
      </geometry>
      <origin rpy="0 0 0" xyz="0 0 0"/>
    </collision>
  </link>
  <joint name="joint_3.0_digit2_sec4_sensor_2l3" type="fixed">
    <parent link="link_3.0"/>
    <child link="link_3.0_digit2_sec4_sensor_2l3"/>
    <origin rpy="0 0 0" xyz="0 0 0.02"/>
  </joint>

  <inertial>
      <mass value="0.0014"/>
      <origin rpy="0 0 0" xyz="0 0 0"/>
      <inertia ixx="9.68e-07" ixy="0" ixz="0" iyy="9.68e-07" iyz="0" izz="9.68e-07"/>
  </inertial>


  <link name="link_3.0_digit2_sec4_sensor_3l0">
    <visual>
      <geometry>
        <mesh filename="meshes/digit2_sec4_sensor_3l0.stl"/>
      </geometry>
      <material name="white">
        <color rgba=".9 .9 .9 1"/>
      </material>
    </visual>
     <collision>
      <geometry>
       <mesh filename="meshes/digit2_sec4_sensor_3l0.stl"/>
      </geometry>
      <origin rpy="0 0 0" xyz="0 0 0"/>
    </collision>
  </link>
  <joint name="joint_3.0_digit2_sec4_sensor_3l0" type="fixed">
    <parent link="link_3.0"/>
    <child link="link_3.0_digit2_sec4_sensor_3l0"/>
    <origin rpy="0 0 0" xyz="0 0 0.02"/>
  </joint>

  <inertial>
      <mass value="0.0014"/>
      <origin rpy="0 0 0" xyz="0 0 0"/>
      <inertia ixx="9.68e-07" ixy="0" ixz="0" iyy="9.68e-07" iyz="0" izz="9.68e-07"/>
  </inertial>


  <link name="link_3.0_digit2_sec4_sensor_3l1">
    <visual>
      <geometry>
        <mesh filename="meshes/digit2_sec4_sensor_3l1.stl"/>
      </geometry>
      <material name="white">
        <color rgba=".9 .9 .9 1"/>
      </material>
    </visual>
     <collision>
      <geometry>
       <mesh filename="meshes/digit2_sec4_sensor_3l1.stl"/>
      </geometry>
      <origin rpy="0 0 0" xyz="0 0 0"/>
    </collision>
  </link>
  <joint name="joint_3.0_digit2_sec4_sensor_3l1" type="fixed">
    <parent link="link_3.0"/>
    <child link="link_3.0_digit2_sec4_sensor_3l1"/>
    <origin rpy="0 0 0" xyz="0 0 0.02"/>
  </joint>

  <inertial>
      <mass value="0.0014"/>
      <origin rpy="0 0 0" xyz="0 0 0"/>
      <inertia ixx="9.68e-07" ixy="0" ixz="0" iyy="9.68e-07" iyz="0" izz="9.68e-07"/>
  </inertial>


  <link name="link_3.0_digit2_sec4_sensor_3l2">
    <visual>
      <geometry>
        <mesh filename="meshes/digit2_sec4_sensor_3l2.stl"/>
      </geometry>
      <material name="white">
        <color rgba=".9 .9 .9 1"/>
      </material>
    </visual>
     <collision>
      <geometry>
       <mesh filename="meshes/digit2_sec4_sensor_3l2.stl"/>
      </geometry>
      <origin rpy="0 0 0" xyz="0 0 0"/>
    </collision>
  </link>
  <joint name="joint_3.0_digit2_sec4_sensor_3l2" type="fixed">
    <parent link="link_3.0"/>
    <child link="link_3.0_digit2_sec4_sensor_3l2"/>
    <origin rpy="0 0 0" xyz="0 0 0.02"/>
  </joint>

  <inertial>
      <mass value="0.0014"/>
      <origin rpy="0 0 0" xyz="0 0 0"/>
      <inertia ixx="9.68e-07" ixy="0" ixz="0" iyy="9.68e-07" iyz="0" izz="9.68e-07"/>
  </inertial>


  <link name="link_3.0_digit2_sec4_sensor_3l3">
    <visual>
      <geometry>
        <mesh filename="meshes/digit2_sec4_sensor_3l3.stl"/>
      </geometry>
      <material name="white">
        <color rgba=".9 .9 .9 1"/>
      </material>
    </visual>
     <collision>
      <geometry>
       <mesh filename="meshes/digit2_sec4_sensor_3l3.stl"/>
      </geometry>
      <origin rpy="0 0 0" xyz="0 0 0"/>
    </collision>
  </link>
  <joint name="joint_3.0_digit2_sec4_sensor_3l3" type="fixed">
    <parent link="link_3.0"/>
    <child link="link_3.0_digit2_sec4_sensor_3l3"/>
    <origin rpy="0 0 0" xyz="0 0 0.02"/>
  </joint>

  <inertial>
      <mass value="0.0014"/>
      <origin rpy="0 0 0" xyz="0 0 0"/>
      <inertia ixx="9.68e-07" ixy="0" ixz="0" iyy="9.68e-07" iyz="0" izz="9.68e-07"/>
  </inertial>


  <link name="link_3.0_digit2_sec4_sensor_4l3">
    <visual>
      <geometry>
        <mesh filename="meshes/digit2_sec4_sensor_4l3.stl"/>
      </geometry>
      <material name="white">
        <color rgba=".9 .9 .9 1"/>
      </material>
    </visual>
     <collision>
      <geometry>
       <mesh filename="meshes/digit2_sec4_sensor_4l3.stl"/>
      </geometry>
      <origin rpy="0 0 0" xyz="0 0 0"/>
    </collision>
  </link>
  <joint name="joint_3.0_digit2_sec4_sensor_4l3" type="fixed">
    <parent link="link_3.0"/>
    <child link="link_3.0_digit2_sec4_sensor_4l3"/>
    <origin rpy="0 0 0" xyz="0 0 0.02"/>
  </joint>

  <inertial>
      <mass value="0.0014"/>
      <origin rpy="0 0 0" xyz="0 0 0"/>
      <inertia ixx="9.68e-07" ixy="0" ixz="0" iyy="9.68e-07" iyz="0" izz="9.68e-07"/>
  </inertial>


  <link name="link_7.0_digit2_sensor_base">
    <visual>
      <geometry>
        <mesh filename="meshes/digit2_sensor_base.stl"/>
      </geometry>
      <material name="white">
        <color rgba=".9 .9 .9 1"/>
      </material>
    </visual>
     <collision>
      <geometry>
       <mesh filename="meshes/digit2_sensor_base.stl"/>
      </geometry>
      <origin rpy="0 0 0" xyz="0 0 0"/>
    </collision>
  </link>
  <joint name="joint_7.0_digit2_sensor_base" type="fixed">
    <parent link="link_7.0"/>
    <child link="link_7.0_digit2_sensor_base"/>
    <origin rpy="0 0 0" xyz="0 0 0.02"/>
  </joint>

  <inertial>
      <mass value="0.008"/>
      <origin rpy="0 0 0" xyz="0 0 0"/>
      <inertia ixx="9.68e-07" ixy="0" ixz="0" iyy="9.68e-07" iyz="0" izz="9.68e-07"/>
  </inertial>


  <link name="link_7.0_digit2_sec4_sensor_1l0">
    <visual>
      <geometry>
        <mesh filename="meshes/digit2_sec4_sensor_1l0.stl"/>
      </geometry>
      <material name="white">
        <color rgba=".9 .9 .9 1"/>
      </material>
    </visual>
     <collision>
      <geometry>
       <mesh filename="meshes/digit2_sec4_sensor_1l0.stl"/>
      </geometry>
      <origin rpy="0 0 0" xyz="0 0 0"/>
    </collision>
  </link>
  <joint name="joint_7.0_digit2_sec4_sensor_1l0" type="fixed">
    <parent link="link_7.0"/>
    <child link="link_7.0_digit2_sec4_sensor_1l0"/>
    <origin rpy="0 0 0" xyz="0 0 0.02"/>
  </joint>

  <inertial>
      <mass value="0.0014"/>
      <origin rpy="0 0 0" xyz="0 0 0"/>
      <inertia ixx="9.68e-07" ixy="0" ixz="0" iyy="9.68e-07" iyz="0" izz="9.68e-07"/>
  </inertial>


  <link name="link_7.0_digit2_sec4_sensor_1l1">
    <visual>
      <geometry>
        <mesh filename="meshes/digit2_sec4_sensor_1l1.stl"/>
      </geometry>
      <material name="white">
        <color rgba=".9 .9 .9 1"/>
      </material>
    </visual>
     <collision>
      <geometry>
       <mesh filename="meshes/digit2_sec4_sensor_1l1.stl"/>
      </geometry>
      <origin rpy="0 0 0" xyz="0 0 0"/>
    </collision>
  </link>
  <joint name="joint_7.0_digit2_sec4_sensor_1l1" type="fixed">
    <parent link="link_7.0"/>
    <child link="link_7.0_digit2_sec4_sensor_1l1"/>
    <origin rpy="0 0 0" xyz="0 0 0.02"/>
  </joint>

  <inertial>
      <mass value="0.0014"/>
      <origin rpy="0 0 0" xyz="0 0 0"/>
      <inertia ixx="9.68e-07" ixy="0" ixz="0" iyy="9.68e-07" iyz="0" izz="9.68e-07"/>
  </inertial>


  <link name="link_7.0_digit2_sec4_sensor_1l2">
    <visual>
      <geometry>
        <mesh filename="meshes/digit2_sec4_sensor_1l2.stl"/>
      </geometry>
      <material name="white">
        <color rgba=".9 .9 .9 1"/>
      </material>
    </visual>
     <collision>
      <geometry>
       <mesh filename="meshes/digit2_sec4_sensor_1l2.stl"/>
      </geometry>
      <origin rpy="0 0 0" xyz="0 0 0"/>
    </collision>
  </link>
  <joint name="joint_7.0_digit2_sec4_sensor_1l2" type="fixed">
    <parent link="link_7.0"/>
    <child link="link_7.0_digit2_sec4_sensor_1l2"/>
    <origin rpy="0 0 0" xyz="0 0 0.02"/>
  </joint>

  <inertial>
      <mass value="0.0014"/>
      <origin rpy="0 0 0" xyz="0 0 0"/>
      <inertia ixx="9.68e-07" ixy="0" ixz="0" iyy="9.68e-07" iyz="0" izz="9.68e-07"/>
  </inertial>


  <link name="link_7.0_digit2_sec4_sensor_1l3">
    <visual>
      <geometry>
        <mesh filename="meshes/digit2_sec4_sensor_1l3.stl"/>
      </geometry>
      <material name="white">
        <color rgba=".9 .9 .9 1"/>
      </material>
    </visual>
     <collision>
      <geometry>
       <mesh filename="meshes/digit2_sec4_sensor_1l3.stl"/>
      </geometry>
      <origin rpy="0 0 0" xyz="0 0 0"/>
    </collision>
  </link>
  <joint name="joint_7.0_digit2_sec4_sensor_1l3" type="fixed">
    <parent link="link_7.0"/>
    <child link="link_7.0_digit2_sec4_sensor_1l3"/>
    <origin rpy="0 0 0" xyz="0 0 0.02"/>
  </joint>

  <inertial>
      <mass value="0.0014"/>
      <origin rpy="0 0 0" xyz="0 0 0"/>
      <inertia ixx="9.68e-07" ixy="0" ixz="0" iyy="9.68e-07" iyz="0" izz="9.68e-07"/>
  </inertial>


  <link name="link_7.0_digit2_sec4_sensor_2l0">
    <visual>
      <geometry>
        <mesh filename="meshes/digit2_sec4_sensor_2l0.stl"/>
      </geometry>
      <material name="white">
        <color rgba=".9 .9 .9 1"/>
      </material>
    </visual>
     <collision>
      <geometry>
       <mesh filename="meshes/digit2_sec4_sensor_2l0.stl"/>
      </geometry>
      <origin rpy="0 0 0" xyz="0 0 0"/>
    </collision>
  </link>
  <joint name="joint_7.0_digit2_sec4_sensor_2l0" type="fixed">
    <parent link="link_7.0"/>
    <child link="link_7.0_digit2_sec4_sensor_2l0"/>
    <origin rpy="0 0 0" xyz="0 0 0.02"/>
  </joint>

  <inertial>
      <mass value="0.0014"/>
      <origin rpy="0 0 0" xyz="0 0 0"/>
      <inertia ixx="9.68e-07" ixy="0" ixz="0" iyy="9.68e-07" iyz="0" izz="9.68e-07"/>
  </inertial>


  <link name="link_7.0_digit2_sec4_sensor_2l1">
    <visual>
      <geometry>
        <mesh filename="meshes/digit2_sec4_sensor_2l1.stl"/>
      </geometry>
      <material name="white">
        <color rgba=".9 .9 .9 1"/>
      </material>
    </visual>
     <collision>
      <geometry>
       <mesh filename="meshes/digit2_sec4_sensor_2l1.stl"/>
      </geometry>
      <origin rpy="0 0 0" xyz="0 0 0"/>
    </collision>
  </link>
  <joint name="joint_7.0_digit2_sec4_sensor_2l1" type="fixed">
    <parent link="link_7.0"/>
    <child link="link_7.0_digit2_sec4_sensor_2l1"/>
    <origin rpy="0 0 0" xyz="0 0 0.02"/>
  </joint>

  <inertial>
      <mass value="0.0014"/>
      <origin rpy="0 0 0" xyz="0 0 0"/>
      <inertia ixx="9.68e-07" ixy="0" ixz="0" iyy="9.68e-07" iyz="0" izz="9.68e-07"/>
  </inertial>


  <link name="link_7.0_digit2_sec4_sensor_2l2">
    <visual>
      <geometry>
        <mesh filename="meshes/digit2_sec4_sensor_2l2.stl"/>
      </geometry>
      <material name="white">
        <color rgba=".9 .9 .9 1"/>
      </material>
    </visual>
     <collision>
      <geometry>
       <mesh filename="meshes/digit2_sec4_sensor_2l2.stl"/>
      </geometry>
      <origin rpy="0 0 0" xyz="0 0 0"/>
    </collision>
  </link>
  <joint name="joint_7.0_digit2_sec4_sensor_2l2" type="fixed">
    <parent link="link_7.0"/>
    <child link="link_7.0_digit2_sec4_sensor_2l2"/>
    <origin rpy="0 0 0" xyz="0 0 0.02"/>
  </joint>

  <inertial>
      <mass value="0.0014"/>
      <origin rpy="0 0 0" xyz="0 0 0"/>
      <inertia ixx="9.68e-07" ixy="0" ixz="0" iyy="9.68e-07" iyz="0" izz="9.68e-07"/>
  </inertial>


  <link name="link_7.0_digit2_sec4_sensor_2l3">
    <visual>
      <geometry>
        <mesh filename="meshes/digit2_sec4_sensor_2l3.stl"/>
      </geometry>
      <material name="white">
        <color rgba=".9 .9 .9 1"/>
      </material>
    </visual>
     <collision>
      <geometry>
       <mesh filename="meshes/digit2_sec4_sensor_2l3.stl"/>
      </geometry>
      <origin rpy="0 0 0" xyz="0 0 0"/>
    </collision>
  </link>
  <joint name="joint_7.0_digit2_sec4_sensor_2l3" type="fixed">
    <parent link="link_7.0"/>
    <child link="link_7.0_digit2_sec4_sensor_2l3"/>
    <origin rpy="0 0 0" xyz="0 0 0.02"/>
  </joint>

  <inertial>
      <mass value="0.0014"/>
      <origin rpy="0 0 0" xyz="0 0 0"/>
      <inertia ixx="9.68e-07" ixy="0" ixz="0" iyy="9.68e-07" iyz="0" izz="9.68e-07"/>
  </inertial>


  <link name="link_7.0_digit2_sec4_sensor_3l0">
    <visual>
      <geometry>
        <mesh filename="meshes/digit2_sec4_sensor_3l0.stl"/>
      </geometry>
      <material name="white">
        <color rgba=".9 .9 .9 1"/>
      </material>
    </visual>
     <collision>
      <geometry>
       <mesh filename="meshes/digit2_sec4_sensor_3l0.stl"/>
      </geometry>
      <origin rpy="0 0 0" xyz="0 0 0"/>
    </collision>
  </link>
  <joint name="joint_7.0_digit2_sec4_sensor_3l0" type="fixed">
    <parent link="link_7.0"/>
    <child link="link_7.0_digit2_sec4_sensor_3l0"/>
    <origin rpy="0 0 0" xyz="0 0 0.02"/>
  </joint>

  <inertial>
      <mass value="0.0014"/>
      <origin rpy="0 0 0" xyz="0 0 0"/>
      <inertia ixx="9.68e-07" ixy="0" ixz="0" iyy="9.68e-07" iyz="0" izz="9.68e-07"/>
  </inertial>


  <link name="link_7.0_digit2_sec4_sensor_3l1">
    <visual>
      <geometry>
        <mesh filename="meshes/digit2_sec4_sensor_3l1.stl"/>
      </geometry>
      <material name="white">
        <color rgba=".9 .9 .9 1"/>
      </material>
    </visual>
     <collision>
      <geometry>
       <mesh filename="meshes/digit2_sec4_sensor_3l1.stl"/>
      </geometry>
      <origin rpy="0 0 0" xyz="0 0 0"/>
    </collision>
  </link>
  <joint name="joint_7.0_digit2_sec4_sensor_3l1" type="fixed">
    <parent link="link_7.0"/>
    <child link="link_7.0_digit2_sec4_sensor_3l1"/>
    <origin rpy="0 0 0" xyz="0 0 0.02"/>
  </joint>

  <inertial>
      <mass value="0.0014"/>
      <origin rpy="0 0 0" xyz="0 0 0"/>
      <inertia ixx="9.68e-07" ixy="0" ixz="0" iyy="9.68e-07" iyz="0" izz="9.68e-07"/>
  </inertial>


  <link name="link_7.0_digit2_sec4_sensor_3l2">
    <visual>
      <geometry>
        <mesh filename="meshes/digit2_sec4_sensor_3l2.stl"/>
      </geometry>
      <material name="white">
        <color rgba=".9 .9 .9 1"/>
      </material>
    </visual>
     <collision>
      <geometry>
       <mesh filename="meshes/digit2_sec4_sensor_3l2.stl"/>
      </geometry>
      <origin rpy="0 0 0" xyz="0 0 0"/>
    </collision>
  </link>
  <joint name="joint_7.0_digit2_sec4_sensor_3l2" type="fixed">
    <parent link="link_7.0"/>
    <child link="link_7.0_digit2_sec4_sensor_3l2"/>
    <origin rpy="0 0 0" xyz="0 0 0.02"/>
  </joint>

  <inertial>
      <mass value="0.0014"/>
      <origin rpy="0 0 0" xyz="0 0 0"/>
      <inertia ixx="9.68e-07" ixy="0" ixz="0" iyy="9.68e-07" iyz="0" izz="9.68e-07"/>
  </inertial>


  <link name="link_7.0_digit2_sec4_sensor_3l3">
    <visual>
      <geometry>
        <mesh filename="meshes/digit2_sec4_sensor_3l3.stl"/>
      </geometry>
      <material name="white">
        <color rgba=".9 .9 .9 1"/>
      </material>
    </visual>
     <collision>
      <geometry>
       <mesh filename="meshes/digit2_sec4_sensor_3l3.stl"/>
      </geometry>
      <origin rpy="0 0 0" xyz="0 0 0"/>
    </collision>
  </link>
  <joint name="joint_7.0_digit2_sec4_sensor_3l3" type="fixed">
    <parent link="link_7.0"/>
    <child link="link_7.0_digit2_sec4_sensor_3l3"/>
    <origin rpy="0 0 0" xyz="0 0 0.02"/>
  </joint>

  <inertial>
      <mass value="0.0014"/>
      <origin rpy="0 0 0" xyz="0 0 0"/>
      <inertia ixx="9.68e-07" ixy="0" ixz="0" iyy="9.68e-07" iyz="0" izz="9.68e-07"/>
  </inertial>


  <link name="link_7.0_digit2_sec4_sensor_4l3">
    <visual>
      <geometry>
        <mesh filename="meshes/digit2_sec4_sensor_4l3.stl"/>
      </geometry>
      <material name="white">
        <color rgba=".9 .9 .9 1"/>
      </material>
    </visual>
     <collision>
      <geometry>
       <mesh filename="meshes/digit2_sec4_sensor_4l3.stl"/>
      </geometry>
      <origin rpy="0 0 0" xyz="0 0 0"/>
    </collision>
  </link>
  <joint name="joint_7.0_digit2_sec4_sensor_4l3" type="fixed">
    <parent link="link_7.0"/>
    <child link="link_7.0_digit2_sec4_sensor_4l3"/>
    <origin rpy="0 0 0" xyz="0 0 0.02"/>
  </joint>

  <inertial>
      <mass value="0.0014"/>
      <origin rpy="0 0 0" xyz="0 0 0"/>
      <inertia ixx="9.68e-07" ixy="0" ixz="0" iyy="9.68e-07" iyz="0" izz="9.68e-07"/>
  </inertial>


  <link name="link_11.0_digit2_sensor_base">
    <visual>
      <geometry>
        <mesh filename="meshes/digit2_sensor_base.stl"/>
      </geometry>
      <material name="white">
        <color rgba=".9 .9 .9 1"/>
      </material>
    </visual>
     <collision>
      <geometry>
       <mesh filename="meshes/digit2_sensor_base.stl"/>
      </geometry>
      <origin rpy="0 0 0" xyz="0 0 0"/>
    </collision>
  </link>
  <joint name="joint_11.0_digit2_sensor_base" type="fixed">
    <parent link="link_11.0"/>
    <child link="link_11.0_digit2_sensor_base"/>
    <origin rpy="0 0 0" xyz="0 0 0.02"/>
  </joint>

  <inertial>
      <mass value="0.008"/>
      <origin rpy="0 0 0" xyz="0 0 0"/>
      <inertia ixx="9.68e-07" ixy="0" ixz="0" iyy="9.68e-07" iyz="0" izz="9.68e-07"/>
  </inertial>


  <link name="link_11.0_digit2_sec4_sensor_1l0">
    <visual>
      <geometry>
        <mesh filename="meshes/digit2_sec4_sensor_1l0.stl"/>
      </geometry>
      <material name="white">
        <color rgba=".9 .9 .9 1"/>
      </material>
    </visual>
     <collision>
      <geometry>
       <mesh filename="meshes/digit2_sec4_sensor_1l0.stl"/>
      </geometry>
      <origin rpy="0 0 0" xyz="0 0 0"/>
    </collision>
  </link>
  <joint name="joint_11.0_digit2_sec4_sensor_1l0" type="fixed">
    <parent link="link_11.0"/>
    <child link="link_11.0_digit2_sec4_sensor_1l0"/>
    <origin rpy="0 0 0" xyz="0 0 0.02"/>
  </joint>

  <inertial>
      <mass value="0.0014"/>
      <origin rpy="0 0 0" xyz="0 0 0"/>
      <inertia ixx="9.68e-07" ixy="0" ixz="0" iyy="9.68e-07" iyz="0" izz="9.68e-07"/>
  </inertial>


  <link name="link_11.0_digit2_sec4_sensor_1l1">
    <visual>
      <geometry>
        <mesh filename="meshes/digit2_sec4_sensor_1l1.stl"/>
      </geometry>
      <material name="white">
        <color rgba=".9 .9 .9 1"/>
      </material>
    </visual>
     <collision>
      <geometry>
       <mesh filename="meshes/digit2_sec4_sensor_1l1.stl"/>
      </geometry>
      <origin rpy="0 0 0" xyz="0 0 0"/>
    </collision>
  </link>
  <joint name="joint_11.0_digit2_sec4_sensor_1l1" type="fixed">
    <parent link="link_11.0"/>
    <child link="link_11.0_digit2_sec4_sensor_1l1"/>
    <origin rpy="0 0 0" xyz="0 0 0.02"/>
  </joint>

  <inertial>
      <mass value="0.0014"/>
      <origin rpy="0 0 0" xyz="0 0 0"/>
      <inertia ixx="9.68e-07" ixy="0" ixz="0" iyy="9.68e-07" iyz="0" izz="9.68e-07"/>
  </inertial>


  <link name="link_11.0_digit2_sec4_sensor_1l2">
    <visual>
      <geometry>
        <mesh filename="meshes/digit2_sec4_sensor_1l2.stl"/>
      </geometry>
      <material name="white">
        <color rgba=".9 .9 .9 1"/>
      </material>
    </visual>
     <collision>
      <geometry>
       <mesh filename="meshes/digit2_sec4_sensor_1l2.stl"/>
      </geometry>
      <origin rpy="0 0 0" xyz="0 0 0"/>
    </collision>
  </link>
  <joint name="joint_11.0_digit2_sec4_sensor_1l2" type="fixed">
    <parent link="link_11.0"/>
    <child link="link_11.0_digit2_sec4_sensor_1l2"/>
    <origin rpy="0 0 0" xyz="0 0 0.02"/>
  </joint>

  <inertial>
      <mass value="0.0014"/>
      <origin rpy="0 0 0" xyz="0 0 0"/>
      <inertia ixx="9.68e-07" ixy="0" ixz="0" iyy="9.68e-07" iyz="0" izz="9.68e-07"/>
  </inertial>


  <link name="link_11.0_digit2_sec4_sensor_1l3">
    <visual>
      <geometry>
        <mesh filename="meshes/digit2_sec4_sensor_1l3.stl"/>
      </geometry>
      <material name="white">
        <color rgba=".9 .9 .9 1"/>
      </material>
    </visual>
     <collision>
      <geometry>
       <mesh filename="meshes/digit2_sec4_sensor_1l3.stl"/>
      </geometry>
      <origin rpy="0 0 0" xyz="0 0 0"/>
    </collision>
  </link>
  <joint name="joint_11.0_digit2_sec4_sensor_1l3" type="fixed">
    <parent link="link_11.0"/>
    <child link="link_11.0_digit2_sec4_sensor_1l3"/>
    <origin rpy="0 0 0" xyz="0 0 0.02"/>
  </joint>

  <inertial>
      <mass value="0.0014"/>
      <origin rpy="0 0 0" xyz="0 0 0"/>
      <inertia ixx="9.68e-07" ixy="0" ixz="0" iyy="9.68e-07" iyz="0" izz="9.68e-07"/>
  </inertial>


  <link name="link_11.0_digit2_sec4_sensor_2l0">
    <visual>
      <geometry>
        <mesh filename="meshes/digit2_sec4_sensor_2l0.stl"/>
      </geometry>
      <material name="white">
        <color rgba=".9 .9 .9 1"/>
      </material>
    </visual>
     <collision>
      <geometry>
       <mesh filename="meshes/digit2_sec4_sensor_2l0.stl"/>
      </geometry>
      <origin rpy="0 0 0" xyz="0 0 0"/>
    </collision>
  </link>
  <joint name="joint_11.0_digit2_sec4_sensor_2l0" type="fixed">
    <parent link="link_11.0"/>
    <child link="link_11.0_digit2_sec4_sensor_2l0"/>
    <origin rpy="0 0 0" xyz="0 0 0.02"/>
  </joint>

  <inertial>
      <mass value="0.0014"/>
      <origin rpy="0 0 0" xyz="0 0 0"/>
      <inertia ixx="9.68e-07" ixy="0" ixz="0" iyy="9.68e-07" iyz="0" izz="9.68e-07"/>
  </inertial>


  <link name="link_11.0_digit2_sec4_sensor_2l1">
    <visual>
      <geometry>
        <mesh filename="meshes/digit2_sec4_sensor_2l1.stl"/>
      </geometry>
      <material name="white">
        <color rgba=".9 .9 .9 1"/>
      </material>
    </visual>
     <collision>
      <geometry>
       <mesh filename="meshes/digit2_sec4_sensor_2l1.stl"/>
      </geometry>
      <origin rpy="0 0 0" xyz="0 0 0"/>
    </collision>
  </link>
  <joint name="joint_11.0_digit2_sec4_sensor_2l1" type="fixed">
    <parent link="link_11.0"/>
    <child link="link_11.0_digit2_sec4_sensor_2l1"/>
    <origin rpy="0 0 0" xyz="0 0 0.02"/>
  </joint>

  <inertial>
      <mass value="0.0014"/>
      <origin rpy="0 0 0" xyz="0 0 0"/>
      <inertia ixx="9.68e-07" ixy="0" ixz="0" iyy="9.68e-07" iyz="0" izz="9.68e-07"/>
  </inertial>


  <link name="link_11.0_digit2_sec4_sensor_2l2">
    <visual>
      <geometry>
        <mesh filename="meshes/digit2_sec4_sensor_2l2.stl"/>
      </geometry>
      <material name="white">
        <color rgba=".9 .9 .9 1"/>
      </material>
    </visual>
     <collision>
      <geometry>
       <mesh filename="meshes/digit2_sec4_sensor_2l2.stl"/>
      </geometry>
      <origin rpy="0 0 0" xyz="0 0 0"/>
    </collision>
  </link>
  <joint name="joint_11.0_digit2_sec4_sensor_2l2" type="fixed">
    <parent link="link_11.0"/>
    <child link="link_11.0_digit2_sec4_sensor_2l2"/>
    <origin rpy="0 0 0" xyz="0 0 0.02"/>
  </joint>

  <inertial>
      <mass value="0.0014"/>
      <origin rpy="0 0 0" xyz="0 0 0"/>
      <inertia ixx="9.68e-07" ixy="0" ixz="0" iyy="9.68e-07" iyz="0" izz="9.68e-07"/>
  </inertial>


  <link name="link_11.0_digit2_sec4_sensor_2l3">
    <visual>
      <geometry>
        <mesh filename="meshes/digit2_sec4_sensor_2l3.stl"/>
      </geometry>
      <material name="white">
        <color rgba=".9 .9 .9 1"/>
      </material>
    </visual>
     <collision>
      <geometry>
       <mesh filename="meshes/digit2_sec4_sensor_2l3.stl"/>
      </geometry>
      <origin rpy="0 0 0" xyz="0 0 0"/>
    </collision>
  </link>
  <joint name="joint_11.0_digit2_sec4_sensor_2l3" type="fixed">
    <parent link="link_11.0"/>
    <child link="link_11.0_digit2_sec4_sensor_2l3"/>
    <origin rpy="0 0 0" xyz="0 0 0.02"/>
  </joint>

  <inertial>
      <mass value="0.0014"/>
      <origin rpy="0 0 0" xyz="0 0 0"/>
      <inertia ixx="9.68e-07" ixy="0" ixz="0" iyy="9.68e-07" iyz="0" izz="9.68e-07"/>
  </inertial>


  <link name="link_11.0_digit2_sec4_sensor_3l0">
    <visual>
      <geometry>
        <mesh filename="meshes/digit2_sec4_sensor_3l0.stl"/>
      </geometry>
      <material name="white">
        <color rgba=".9 .9 .9 1"/>
      </material>
    </visual>
     <collision>
      <geometry>
       <mesh filename="meshes/digit2_sec4_sensor_3l0.stl"/>
      </geometry>
      <origin rpy="0 0 0" xyz="0 0 0"/>
    </collision>
  </link>
  <joint name="joint_11.0_digit2_sec4_sensor_3l0" type="fixed">
    <parent link="link_11.0"/>
    <child link="link_11.0_digit2_sec4_sensor_3l0"/>
    <origin rpy="0 0 0" xyz="0 0 0.02"/>
  </joint>

  <inertial>
      <mass value="0.0014"/>
      <origin rpy="0 0 0" xyz="0 0 0"/>
      <inertia ixx="9.68e-07" ixy="0" ixz="0" iyy="9.68e-07" iyz="0" izz="9.68e-07"/>
  </inertial>


  <link name="link_11.0_digit2_sec4_sensor_3l1">
    <visual>
      <geometry>
        <mesh filename="meshes/digit2_sec4_sensor_3l1.stl"/>
      </geometry>
      <material name="white">
        <color rgba=".9 .9 .9 1"/>
      </material>
    </visual>
     <collision>
      <geometry>
       <mesh filename="meshes/digit2_sec4_sensor_3l1.stl"/>
      </geometry>
      <origin rpy="0 0 0" xyz="0 0 0"/>
    </collision>
  </link>
  <joint name="joint_11.0_digit2_sec4_sensor_3l1" type="fixed">
    <parent link="link_11.0"/>
    <child link="link_11.0_digit2_sec4_sensor_3l1"/>
    <origin rpy="0 0 0" xyz="0 0 0.02"/>
  </joint>

  <inertial>
      <mass value="0.0014"/>
      <origin rpy="0 0 0" xyz="0 0 0"/>
      <inertia ixx="9.68e-07" ixy="0" ixz="0" iyy="9.68e-07" iyz="0" izz="9.68e-07"/>
  </inertial>


  <link name="link_11.0_digit2_sec4_sensor_3l2">
    <visual>
      <geometry>
        <mesh filename="meshes/digit2_sec4_sensor_3l2.stl"/>
      </geometry>
      <material name="white">
        <color rgba=".9 .9 .9 1"/>
      </material>
    </visual>
     <collision>
      <geometry>
       <mesh filename="meshes/digit2_sec4_sensor_3l2.stl"/>
      </geometry>
      <origin rpy="0 0 0" xyz="0 0 0"/>
    </collision>
  </link>
  <joint name="joint_11.0_digit2_sec4_sensor_3l2" type="fixed">
    <parent link="link_11.0"/>
    <child link="link_11.0_digit2_sec4_sensor_3l2"/>
    <origin rpy="0 0 0" xyz="0 0 0.02"/>
  </joint>

  <inertial>
      <mass value="0.0014"/>
      <origin rpy="0 0 0" xyz="0 0 0"/>
      <inertia ixx="9.68e-07" ixy="0" ixz="0" iyy="9.68e-07" iyz="0" izz="9.68e-07"/>
  </inertial>


  <link name="link_11.0_digit2_sec4_sensor_3l3">
    <visual>
      <geometry>
        <mesh filename="meshes/digit2_sec4_sensor_3l3.stl"/>
      </geometry>
      <material name="white">
        <color rgba=".9 .9 .9 1"/>
      </material>
    </visual>
     <collision>
      <geometry>
       <mesh filename="meshes/digit2_sec4_sensor_3l3.stl"/>
      </geometry>
      <origin rpy="0 0 0" xyz="0 0 0"/>
    </collision>
  </link>
  <joint name="joint_11.0_digit2_sec4_sensor_3l3" type="fixed">
    <parent link="link_11.0"/>
    <child link="link_11.0_digit2_sec4_sensor_3l3"/>
    <origin rpy="0 0 0" xyz="0 0 0.02"/>
  </joint>

  <inertial>
      <mass value="0.0014"/>
      <origin rpy="0 0 0" xyz="0 0 0"/>
      <inertia ixx="9.68e-07" ixy="0" ixz="0" iyy="9.68e-07" iyz="0" izz="9.68e-07"/>
  </inertial>


  <link name="link_11.0_digit2_sec4_sensor_4l3">
    <visual>
      <geometry>
        <mesh filename="meshes/digit2_sec4_sensor_4l3.stl"/>
      </geometry>
      <material name="white">
        <color rgba=".9 .9 .9 1"/>
      </material>
    </visual>
     <collision>
      <geometry>
       <mesh filename="meshes/digit2_sec4_sensor_4l3.stl"/>
      </geometry>
      <origin rpy="0 0 0" xyz="0 0 0"/>
    </collision>
  </link>
  <joint name="joint_11.0_digit2_sec4_sensor_4l3" type="fixed">
    <parent link="link_11.0"/>
    <child link="link_11.0_digit2_sec4_sensor_4l3"/>
    <origin rpy="0 0 0" xyz="0 0 0.02"/>
  </joint>

  <inertial>
      <mass value="0.0014"/>
      <origin rpy="0 0 0" xyz="0 0 0"/>
      <inertia ixx="9.68e-07" ixy="0" ixz="0" iyy="9.68e-07" iyz="0" izz="9.68e-07"/>
  </inertial>


  <link name="link_15.0_digit2_sensor_base">
    <visual>
      <geometry>
        <mesh filename="meshes/digit2_sensor_base.stl"/>
      </geometry>
      <material name="white">
        <color rgba=".9 .9 .9 1"/>
      </material>
    </visual>
     <collision>
      <geometry>
       <mesh filename="meshes/digit2_sensor_base.stl"/>
      </geometry>
      <origin rpy="0 0 0" xyz="0 0 0"/>
    </collision>
  </link>
  <joint name="joint_15.0_digit2_sensor_base" type="fixed">
    <parent link="link_15.0"/>
    <child link="link_15.0_digit2_sensor_base"/>
    <origin rpy="0 0 0" xyz="0 0 0.0353"/>
  </joint>

  <inertial>
      <mass value="0.008"/>
      <origin rpy="0 0 0" xyz="0 0 0"/>
      <inertia ixx="9.68e-07" ixy="0" ixz="0" iyy="9.68e-07" iyz="0" izz="9.68e-07"/>
  </inertial>


  <link name="link_15.0_digit2_sec4_sensor_1l0">
    <visual>
      <geometry>
        <mesh filename="meshes/digit2_sec4_sensor_1l0.stl"/>
      </geometry>
      <material name="white">
        <color rgba=".9 .9 .9 1"/>
      </material>
    </visual>
     <collision>
      <geometry>
       <mesh filename="meshes/digit2_sec4_sensor_1l0.stl"/>
      </geometry>
      <origin rpy="0 0 0" xyz="0 0 0"/>
    </collision>
  </link>
  <joint name="joint_15.0_digit2_sec4_sensor_1l0" type="fixed">
    <parent link="link_15.0"/>
    <child link="link_15.0_digit2_sec4_sensor_1l0"/>
    <origin rpy="0 0 0" xyz="0 0 0.0353"/>
  </joint>

  <inertial>
      <mass value="0.0014"/>
      <origin rpy="0 0 0" xyz="0 0 0"/>
      <inertia ixx="9.68e-07" ixy="0" ixz="0" iyy="9.68e-07" iyz="0" izz="9.68e-07"/>
  </inertial>


  <link name="link_15.0_digit2_sec4_sensor_1l1">
    <visual>
      <geometry>
        <mesh filename="meshes/digit2_sec4_sensor_1l1.stl"/>
      </geometry>
      <material name="white">
        <color rgba=".9 .9 .9 1"/>
      </material>
    </visual>
     <collision>
      <geometry>
       <mesh filename="meshes/digit2_sec4_sensor_1l1.stl"/>
      </geometry>
      <origin rpy="0 0 0" xyz="0 0 0"/>
    </collision>
  </link>
  <joint name="joint_15.0_digit2_sec4_sensor_1l1" type="fixed">
    <parent link="link_15.0"/>
    <child link="link_15.0_digit2_sec4_sensor_1l1"/>
    <origin rpy="0 0 0" xyz="0 0 0.0353"/>
  </joint>

  <inertial>
      <mass value="0.0014"/>
      <origin rpy="0 0 0" xyz="0 0 0"/>
      <inertia ixx="9.68e-07" ixy="0" ixz="0" iyy="9.68e-07" iyz="0" izz="9.68e-07"/>
  </inertial>


  <link name="link_15.0_digit2_sec4_sensor_1l2">
    <visual>
      <geometry>
        <mesh filename="meshes/digit2_sec4_sensor_1l2.stl"/>
      </geometry>
      <material name="white">
        <color rgba=".9 .9 .9 1"/>
      </material>
    </visual>
     <collision>
      <geometry>
       <mesh filename="meshes/digit2_sec4_sensor_1l2.stl"/>
      </geometry>
      <origin rpy="0 0 0" xyz="0 0 0"/>
    </collision>
  </link>
  <joint name="joint_15.0_digit2_sec4_sensor_1l2" type="fixed">
    <parent link="link_15.0"/>
    <child link="link_15.0_digit2_sec4_sensor_1l2"/>
    <origin rpy="0 0 0" xyz="0 0 0.0353"/>
  </joint>

  <inertial>
      <mass value="0.0014"/>
      <origin rpy="0 0 0" xyz="0 0 0"/>
      <inertia ixx="9.68e-07" ixy="0" ixz="0" iyy="9.68e-07" iyz="0" izz="9.68e-07"/>
  </inertial>


  <link name="link_15.0_digit2_sec4_sensor_1l3">
    <visual>
      <geometry>
        <mesh filename="meshes/digit2_sec4_sensor_1l3.stl"/>
      </geometry>
      <material name="white">
        <color rgba=".9 .9 .9 1"/>
      </material>
    </visual>
     <collision>
      <geometry>
       <mesh filename="meshes/digit2_sec4_sensor_1l3.stl"/>
      </geometry>
      <origin rpy="0 0 0" xyz="0 0 0"/>
    </collision>
  </link>
  <joint name="joint_15.0_digit2_sec4_sensor_1l3" type="fixed">
    <parent link="link_15.0"/>
    <child link="link_15.0_digit2_sec4_sensor_1l3"/>
    <origin rpy="0 0 0" xyz="0 0 0.0353"/>
  </joint>

  <inertial>
      <mass value="0.0014"/>
      <origin rpy="0 0 0" xyz="0 0 0"/>
      <inertia ixx="9.68e-07" ixy="0" ixz="0" iyy="9.68e-07" iyz="0" izz="9.68e-07"/>
  </inertial>


  <link name="link_15.0_digit2_sec4_sensor_2l0">
    <visual>
      <geometry>
        <mesh filename="meshes/digit2_sec4_sensor_2l0.stl"/>
      </geometry>
      <material name="white">
        <color rgba=".9 .9 .9 1"/>
      </material>
    </visual>
     <collision>
      <geometry>
       <mesh filename="meshes/digit2_sec4_sensor_2l0.stl"/>
      </geometry>
      <origin rpy="0 0 0" xyz="0 0 0"/>
    </collision>
  </link>
  <joint name="joint_15.0_digit2_sec4_sensor_2l0" type="fixed">
    <parent link="link_15.0"/>
    <child link="link_15.0_digit2_sec4_sensor_2l0"/>
    <origin rpy="0 0 0" xyz="0 0 0.0353"/>
  </joint>

  <inertial>
      <mass value="0.0014"/>
      <origin rpy="0 0 0" xyz="0 0 0"/>
      <inertia ixx="9.68e-07" ixy="0" ixz="0" iyy="9.68e-07" iyz="0" izz="9.68e-07"/>
  </inertial>


  <link name="link_15.0_digit2_sec4_sensor_2l1">
    <visual>
      <geometry>
        <mesh filename="meshes/digit2_sec4_sensor_2l1.stl"/>
      </geometry>
      <material name="white">
        <color rgba=".9 .9 .9 1"/>
      </material>
    </visual>
     <collision>
      <geometry>
       <mesh filename="meshes/digit2_sec4_sensor_2l1.stl"/>
      </geometry>
      <origin rpy="0 0 0" xyz="0 0 0"/>
    </collision>
  </link>
  <joint name="joint_15.0_digit2_sec4_sensor_2l1" type="fixed">
    <parent link="link_15.0"/>
    <child link="link_15.0_digit2_sec4_sensor_2l1"/>
    <origin rpy="0 0 0" xyz="0 0 0.0353"/>
  </joint>

  <inertial>
      <mass value="0.0014"/>
      <origin rpy="0 0 0" xyz="0 0 0"/>
      <inertia ixx="9.68e-07" ixy="0" ixz="0" iyy="9.68e-07" iyz="0" izz="9.68e-07"/>
  </inertial>


  <link name="link_15.0_digit2_sec4_sensor_2l2">
    <visual>
      <geometry>
        <mesh filename="meshes/digit2_sec4_sensor_2l2.stl"/>
      </geometry>
      <material name="white">
        <color rgba=".9 .9 .9 1"/>
      </material>
    </visual>
     <collision>
      <geometry>
       <mesh filename="meshes/digit2_sec4_sensor_2l2.stl"/>
      </geometry>
      <origin rpy="0 0 0" xyz="0 0 0"/>
    </collision>
  </link>
  <joint name="joint_15.0_digit2_sec4_sensor_2l2" type="fixed">
    <parent link="link_15.0"/>
    <child link="link_15.0_digit2_sec4_sensor_2l2"/>
    <origin rpy="0 0 0" xyz="0 0 0.0353"/>
  </joint>

  <inertial>
      <mass value="0.0014"/>
      <origin rpy="0 0 0" xyz="0 0 0"/>
      <inertia ixx="9.68e-07" ixy="0" ixz="0" iyy="9.68e-07" iyz="0" izz="9.68e-07"/>
  </inertial>


  <link name="link_15.0_digit2_sec4_sensor_2l3">
    <visual>
      <geometry>
        <mesh filename="meshes/digit2_sec4_sensor_2l3.stl"/>
      </geometry>
      <material name="white">
        <color rgba=".9 .9 .9 1"/>
      </material>
    </visual>
     <collision>
      <geometry>
       <mesh filename="meshes/digit2_sec4_sensor_2l3.stl"/>
      </geometry>
      <origin rpy="0 0 0" xyz="0 0 0"/>
    </collision>
  </link>
  <joint name="joint_15.0_digit2_sec4_sensor_2l3" type="fixed">
    <parent link="link_15.0"/>
    <child link="link_15.0_digit2_sec4_sensor_2l3"/>
    <origin rpy="0 0 0" xyz="0 0 0.0353"/>
  </joint>

  <inertial>
      <mass value="0.0014"/>
      <origin rpy="0 0 0" xyz="0 0 0"/>
      <inertia ixx="9.68e-07" ixy="0" ixz="0" iyy="9.68e-07" iyz="0" izz="9.68e-07"/>
  </inertial>


  <link name="link_15.0_digit2_sec4_sensor_3l0">
    <visual>
      <geometry>
        <mesh filename="meshes/digit2_sec4_sensor_3l0.stl"/>
      </geometry>
      <material name="white">
        <color rgba=".9 .9 .9 1"/>
      </material>
    </visual>
     <collision>
      <geometry>
       <mesh filename="meshes/digit2_sec4_sensor_3l0.stl"/>
      </geometry>
      <origin rpy="0 0 0" xyz="0 0 0"/>
    </collision>
  </link>
  <joint name="joint_15.0_digit2_sec4_sensor_3l0" type="fixed">
    <parent link="link_15.0"/>
    <child link="link_15.0_digit2_sec4_sensor_3l0"/>
    <origin rpy="0 0 0" xyz="0 0 0.0353"/>
  </joint>

  <inertial>
      <mass value="0.0014"/>
      <origin rpy="0 0 0" xyz="0 0 0"/>
      <inertia ixx="9.68e-07" ixy="0" ixz="0" iyy="9.68e-07" iyz="0" izz="9.68e-07"/>
  </inertial>


  <link name="link_15.0_digit2_sec4_sensor_3l1">
    <visual>
      <geometry>
        <mesh filename="meshes/digit2_sec4_sensor_3l1.stl"/>
      </geometry>
      <material name="white">
        <color rgba=".9 .9 .9 1"/>
      </material>
    </visual>
     <collision>
      <geometry>
       <mesh filename="meshes/digit2_sec4_sensor_3l1.stl"/>
      </geometry>
      <origin rpy="0 0 0" xyz="0 0 0"/>
    </collision>
  </link>
  <joint name="joint_15.0_digit2_sec4_sensor_3l1" type="fixed">
    <parent link="link_15.0"/>
    <child link="link_15.0_digit2_sec4_sensor_3l1"/>
    <origin rpy="0 0 0" xyz="0 0 0.0353"/>
  </joint>

  <inertial>
      <mass value="0.0014"/>
      <origin rpy="0 0 0" xyz="0 0 0"/>
      <inertia ixx="9.68e-07" ixy="0" ixz="0" iyy="9.68e-07" iyz="0" izz="9.68e-07"/>
  </inertial>


  <link name="link_15.0_digit2_sec4_sensor_3l2">
    <visual>
      <geometry>
        <mesh filename="meshes/digit2_sec4_sensor_3l2.stl"/>
      </geometry>
      <material name="white">
        <color rgba=".9 .9 .9 1"/>
      </material>
    </visual>
     <collision>
      <geometry>
       <mesh filename="meshes/digit2_sec4_sensor_3l2.stl"/>
      </geometry>
      <origin rpy="0 0 0" xyz="0 0 0"/>
    </collision>
  </link>
  <joint name="joint_15.0_digit2_sec4_sensor_3l2" type="fixed">
    <parent link="link_15.0"/>
    <child link="link_15.0_digit2_sec4_sensor_3l2"/>
    <origin rpy="0 0 0" xyz="0 0 0.0353"/>
  </joint>

  <inertial>
      <mass value="0.0014"/>
      <origin rpy="0 0 0" xyz="0 0 0"/>
      <inertia ixx="9.68e-07" ixy="0" ixz="0" iyy="9.68e-07" iyz="0" izz="9.68e-07"/>
  </inertial>


  <link name="link_15.0_digit2_sec4_sensor_3l3">
    <visual>
      <geometry>
        <mesh filename="meshes/digit2_sec4_sensor_3l3.stl"/>
      </geometry>
      <material name="white">
        <color rgba=".9 .9 .9 1"/>
      </material>
    </visual>
     <collision>
      <geometry>
       <mesh filename="meshes/digit2_sec4_sensor_3l3.stl"/>
      </geometry>
      <origin rpy="0 0 0" xyz="0 0 0"/>
    </collision>
  </link>
  <joint name="joint_15.0_digit2_sec4_sensor_3l3" type="fixed">
    <parent link="link_15.0"/>
    <child link="link_15.0_digit2_sec4_sensor_3l3"/>
    <origin rpy="0 0 0" xyz="0 0 0.0353"/>
  </joint>

  <inertial>
      <mass value="0.0014"/>
      <origin rpy="0 0 0" xyz="0 0 0"/>
      <inertia ixx="9.68e-07" ixy="0" ixz="0" iyy="9.68e-07" iyz="0" izz="9.68e-07"/>
  </inertial>


  <link name="link_15.0_digit2_sec4_sensor_4l3">
    <visual>
      <geometry>
        <mesh filename="meshes/digit2_sec4_sensor_4l3.stl"/>
      </geometry>
      <material name="white">
        <color rgba=".9 .9 .9 1"/>
      </material>
    </visual>
     <collision>
      <geometry>
       <mesh filename="meshes/digit2_sec4_sensor_4l3.stl"/>
      </geometry>
      <origin rpy="0 0 0" xyz="0 0 0"/>
    </collision>
  </link>
  <joint name="joint_15.0_digit2_sec4_sensor_4l3" type="fixed">
    <parent link="link_15.0"/>
    <child link="link_15.0_digit2_sec4_sensor_4l3"/>
    <origin rpy="0 0 0" xyz="0 0 0.0353"/>
  </joint>

  <inertial>
      <mass value="0.0014"/>
      <origin rpy="0 0 0" xyz="0 0 0"/>
      <inertia ixx="9.68e-07" ixy="0" ixz="0" iyy="9.68e-07" iyz="0" izz="9.68e-07"/>
  </inertial>




</robot>
